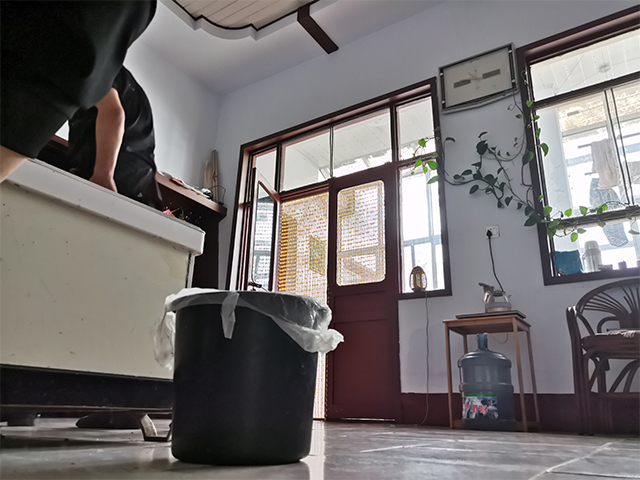stool: (564, 274, 640, 437)
table: (1, 149, 209, 432), (440, 312, 544, 434)
trashcan: (164, 288, 331, 470)
